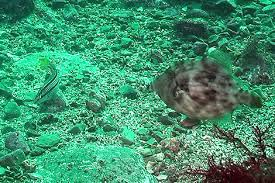kawahagi: (151, 39, 250, 139)
